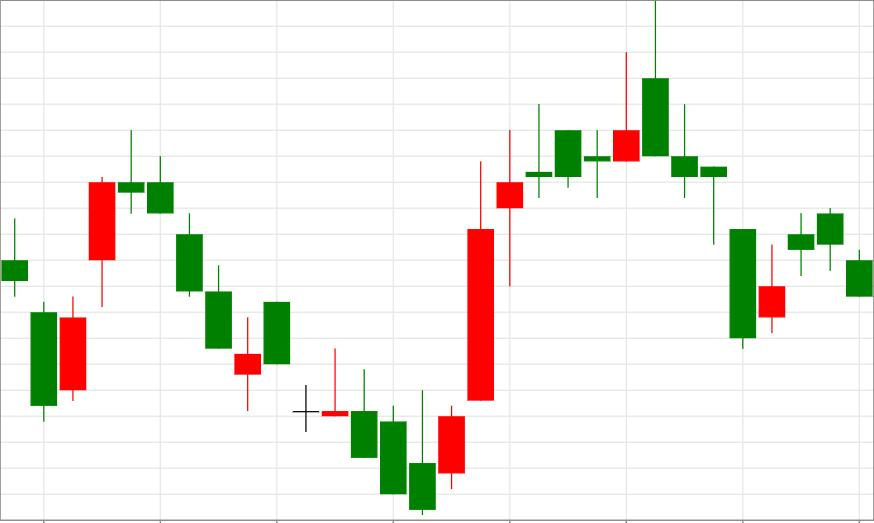shooting_star_fall: (438, 53, 641, 490)
